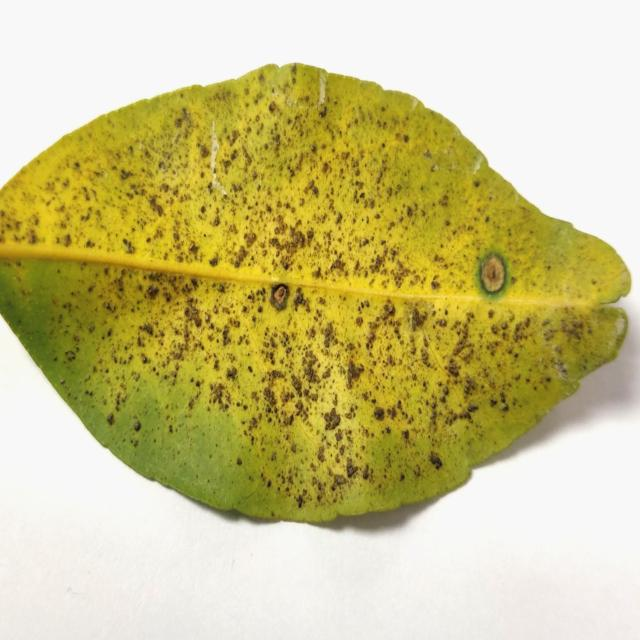melanose: (0, 63, 631, 520)
